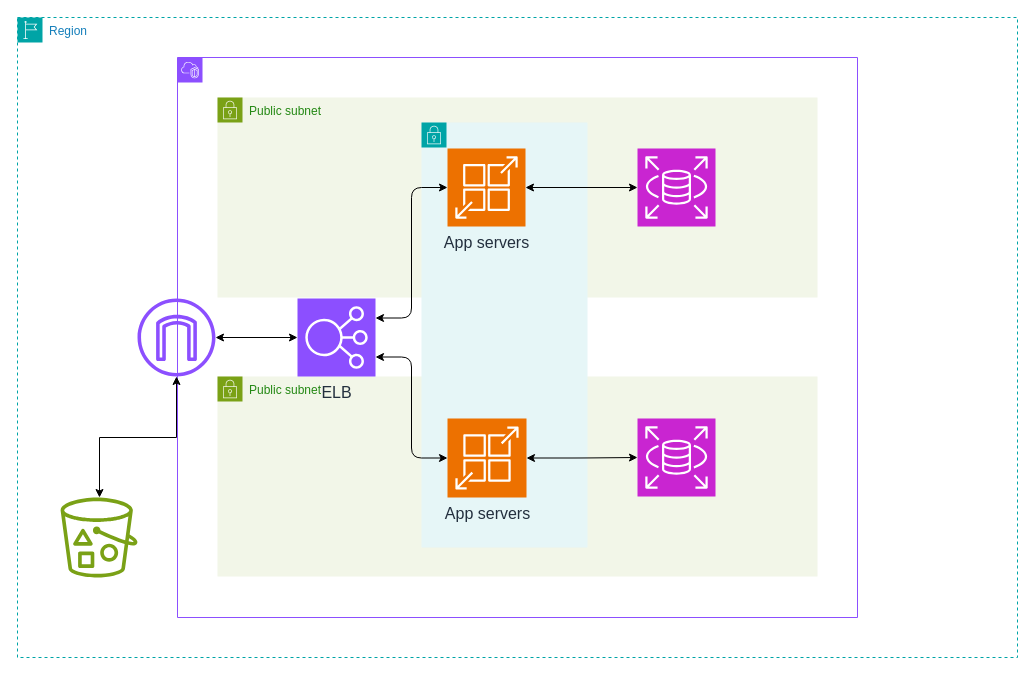
This 1035x675 diagram has some shape labels left out. The box of each missing label's shape, as (x1, y1, x2, y2) in pixels:
Private subnet: (420, 122, 588, 548)
Static assets: (60, 497, 137, 577)
VPC: (176, 56, 858, 618)
